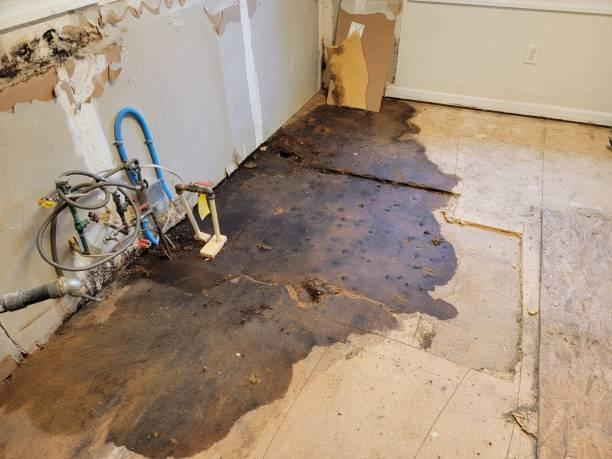water accumulation: (0, 102, 469, 459)
